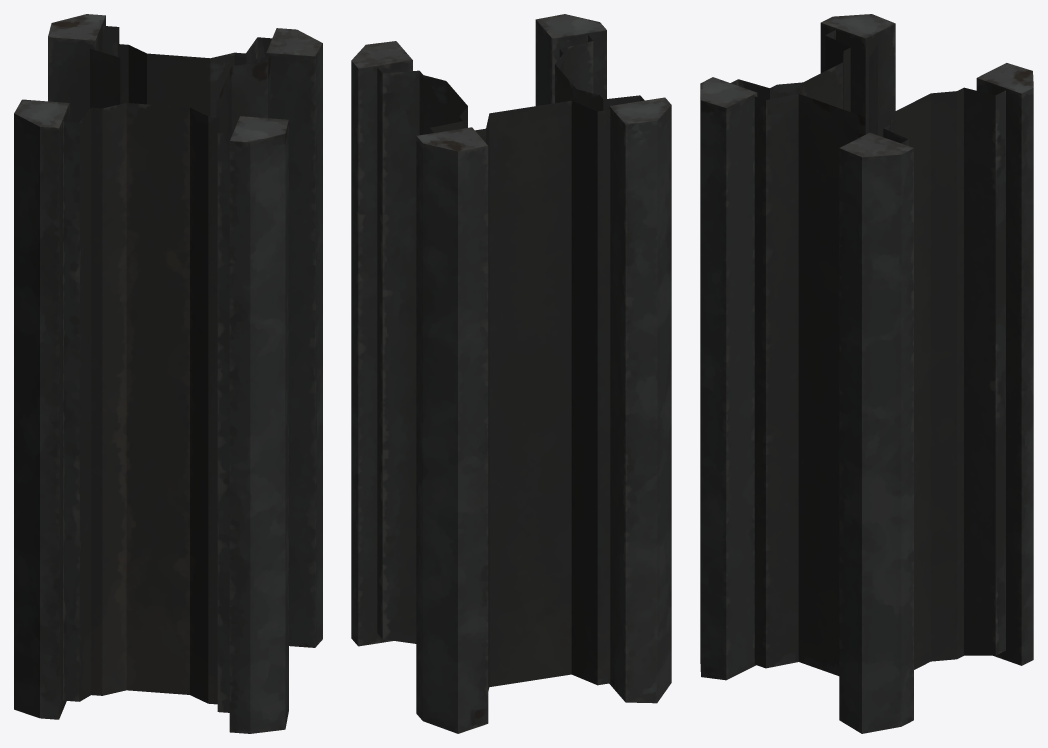
File: ModulForCabel.gltf
3 views of the same model, side by side, from view 1: azimuth 30°, elevation 25°; view 2: azimuth 150°, elevation 25°; view 3: azimuth 270°, elevation 25° (orthographic). The views are drawn at different scales.
Visible parts, largest first — view 1: TowerBase; view 2: TowerBase; view 3: TowerBase.
Part boxes in pixels (<box>): TowerBase: <box>14,14,322,733</box>; TowerBase: <box>351,14,671,733</box>; TowerBase: <box>700,14,1033,733</box>.
Bounding box in the file's own units: 3.05 × 5.72 × 3.
Materials: 1 (1 with a texture image).
